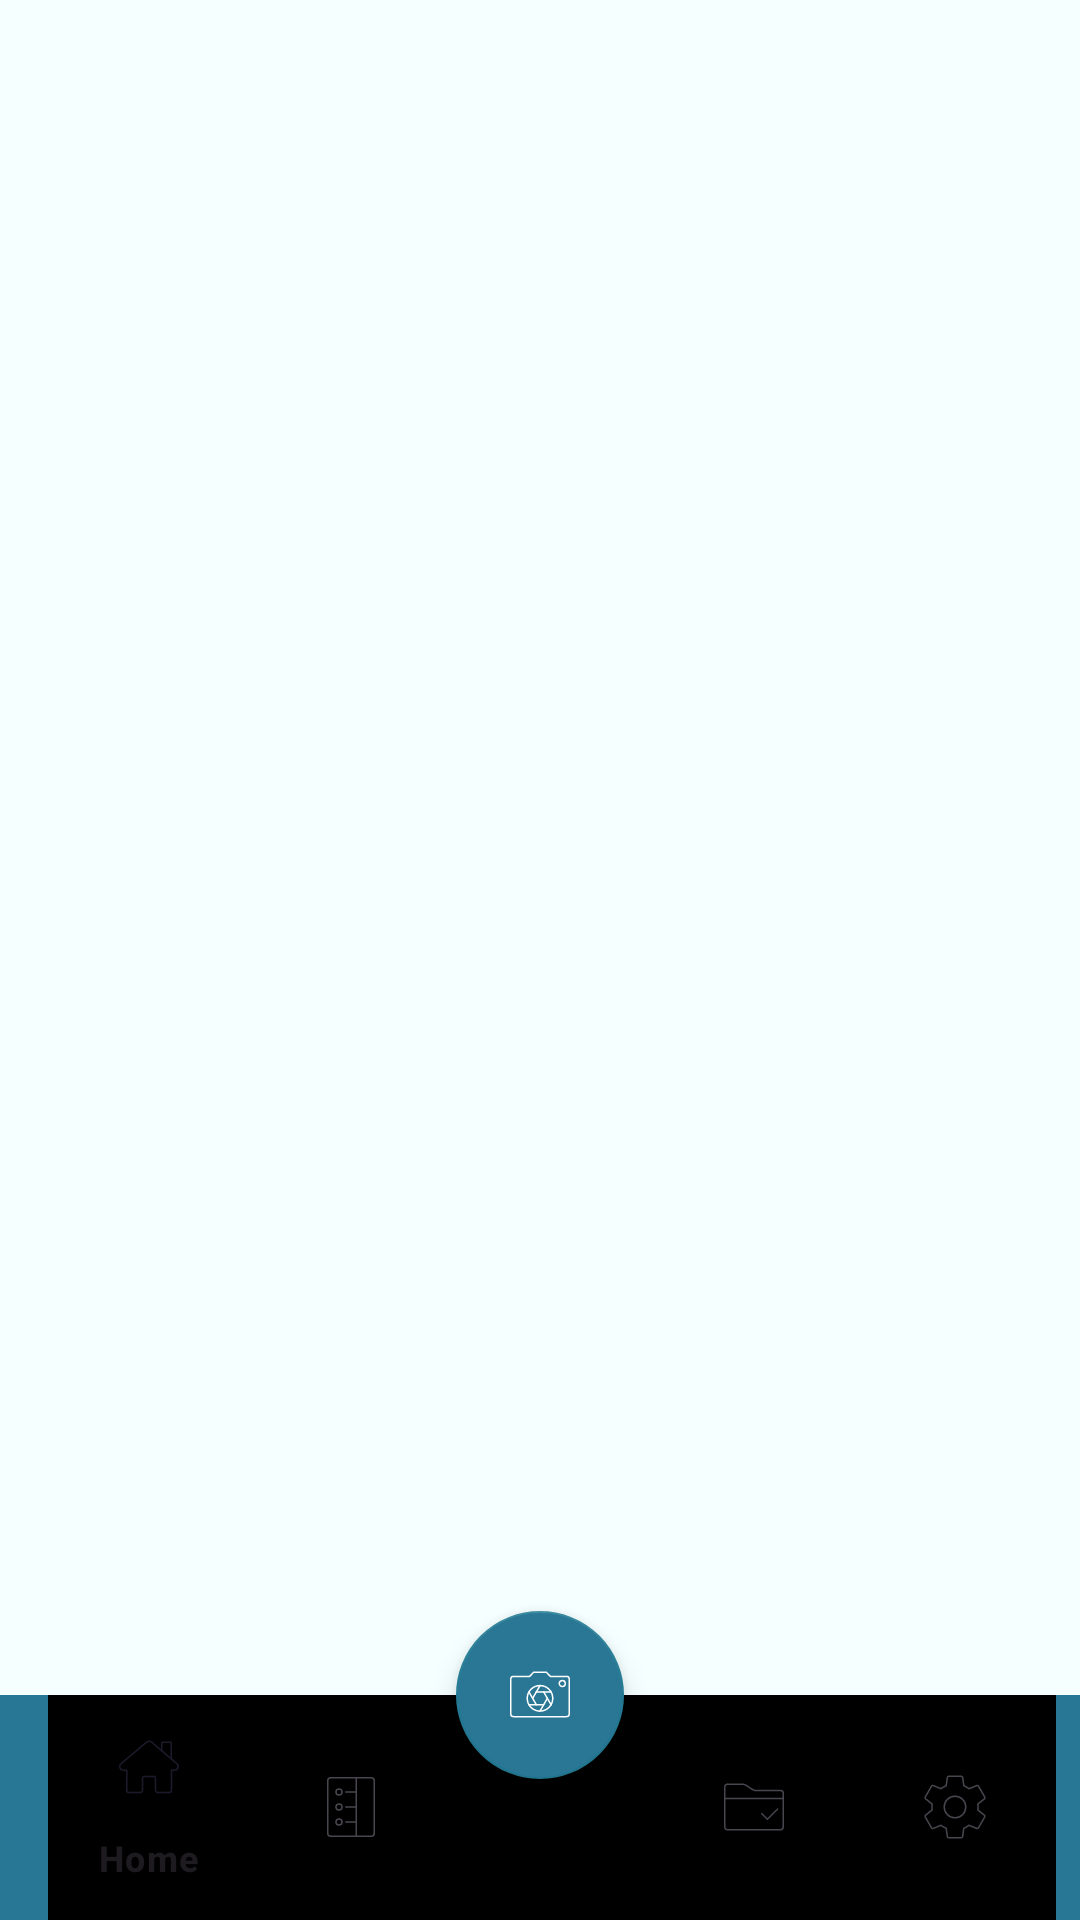

Screen size 1080x1920. Icon name, then its center in pixels as (x=x, y=y):
camera: (x=540, y=1695)
